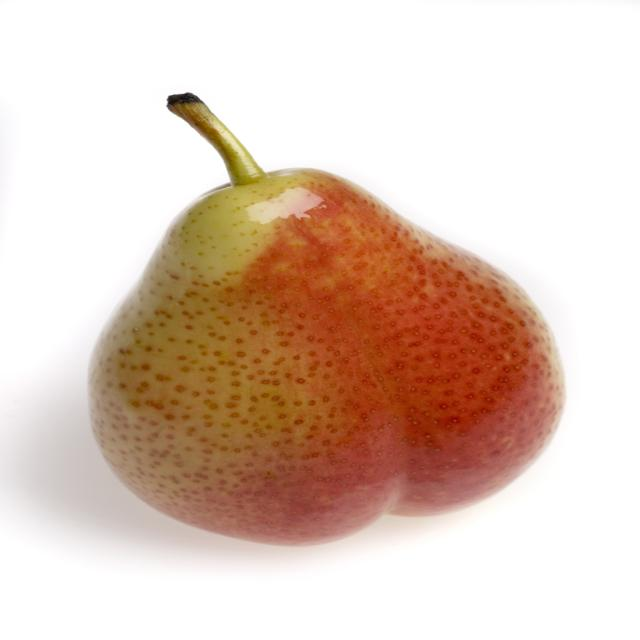pear: (85, 166, 563, 545)
